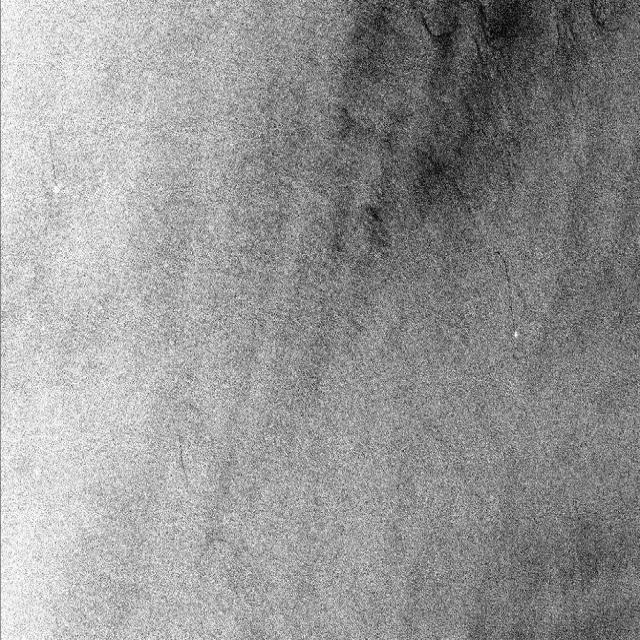look-alike: (419, 6, 457, 49), (478, 4, 510, 48), (468, 30, 488, 77), (585, 4, 612, 38)
oil-spill: (170, 423, 194, 496), (494, 248, 517, 324), (43, 130, 58, 185)
ship: (512, 328, 520, 342), (50, 187, 60, 198)
